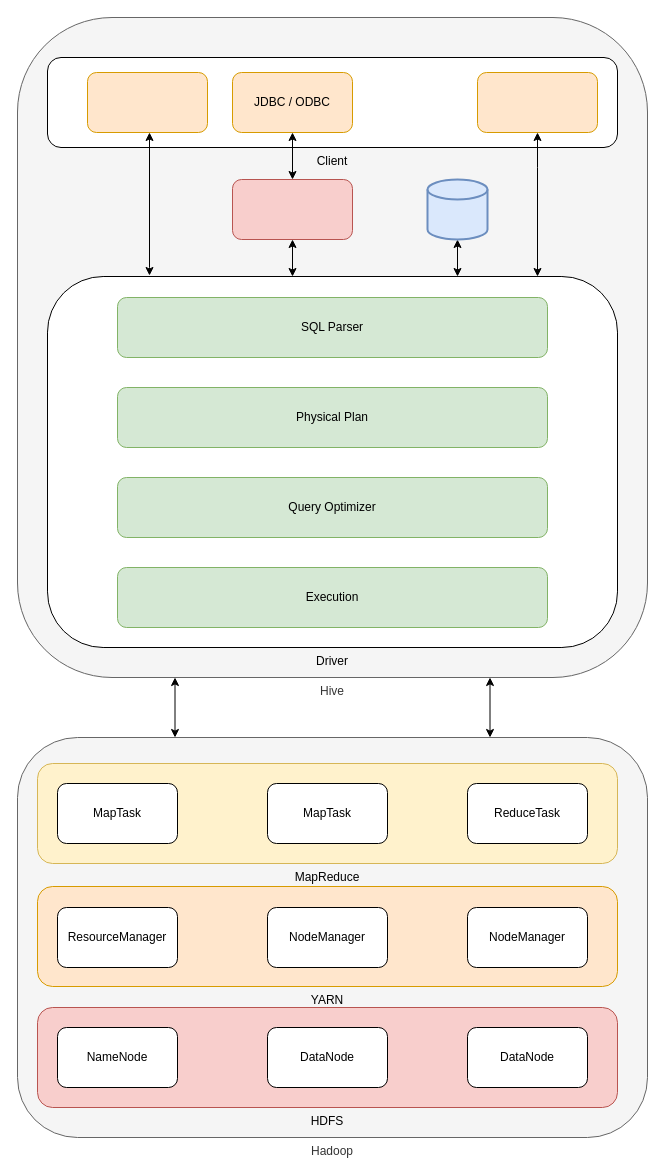
Image size: 665x1176. Some labels were removed from this diagram. Here are the shapes that lost their labels. From the top down, the centre of each, then its label:
At (x=147, y=102): "CLI".
At (x=537, y=102): "WEB UI".
At (x=292, y=209): "Thrift Server".
At (x=457, y=209): "MetaStore".
